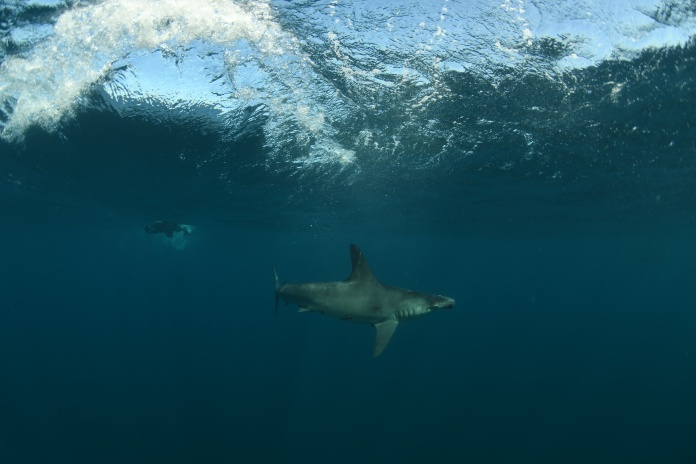Hammer: (255, 237, 475, 367)
